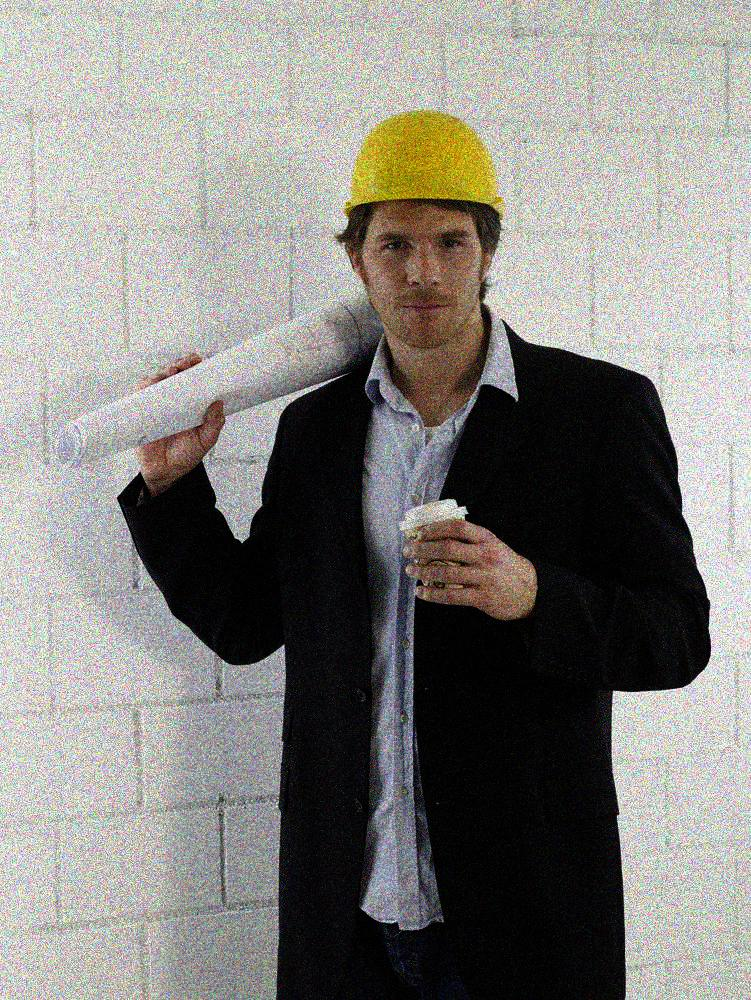helmet: (334, 108, 513, 349)
